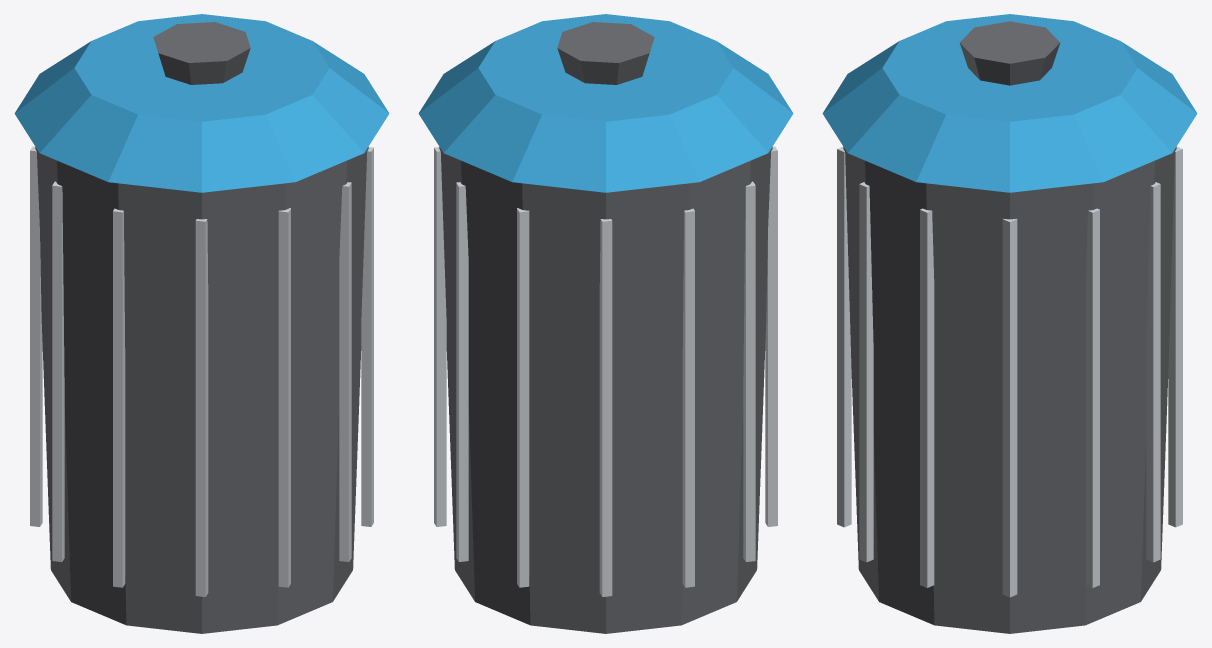
The model's file is litter_bin.glb.
3 views of the same model, side by side, from view 1: azimuth 30°, elevation 25°; view 2: azimuth 150°, elevation 25°; view 3: azimuth 270°, elevation 25° (orthographic).
Visible parts, largest first — view 1: street-litter-bin-charcoal, lid/azure, street-litter-bin-steel, lid/charcoal; view 2: street-litter-bin-charcoal, lid/azure, street-litter-bin-steel, lid/charcoal; view 3: street-litter-bin-charcoal, lid/azure, street-litter-bin-steel, lid/charcoal.
Part boxes in pixels (x1=…): street-litter-bin-charcoal: x1=35, y1=147, x2=368, y2=633; lid/azure: x1=14, y1=14, x2=389, y2=192; street-litter-bin-steel: x1=30, y1=146, x2=373, y2=596; lid/charcoal: x1=153, y1=22, x2=250, y2=84; street-litter-bin-charcoal: x1=439, y1=147, x2=772, y2=633; lid/azure: x1=418, y1=14, x2=793, y2=192; street-litter-bin-steel: x1=434, y1=146, x2=777, y2=596; lid/charcoal: x1=557, y1=22, x2=654, y2=84; street-litter-bin-charcoal: x1=843, y1=147, x2=1176, y2=633; lid/azure: x1=822, y1=14, x2=1197, y2=192; street-litter-bin-steel: x1=837, y1=146, x2=1182, y2=597; lid/charcoal: x1=959, y1=21, x2=1060, y2=85.
Size of the model in its own units: 0.67 by 1.04 by 0.67.
